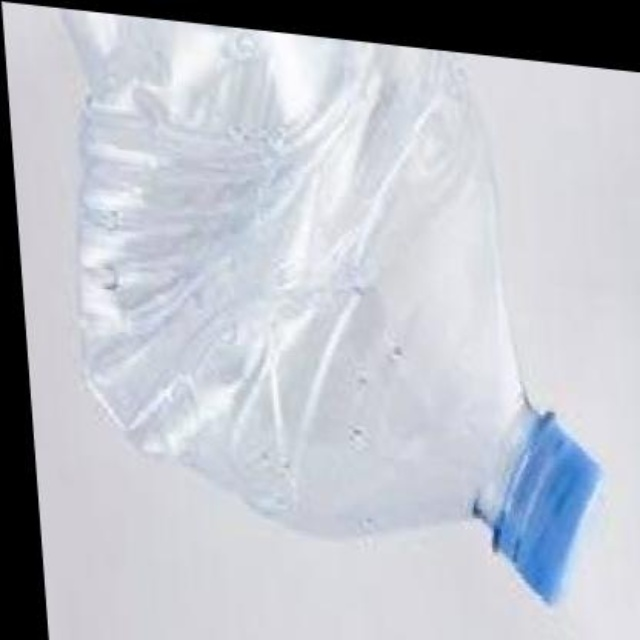trash: (65, 14, 606, 534), (492, 411, 602, 602)
